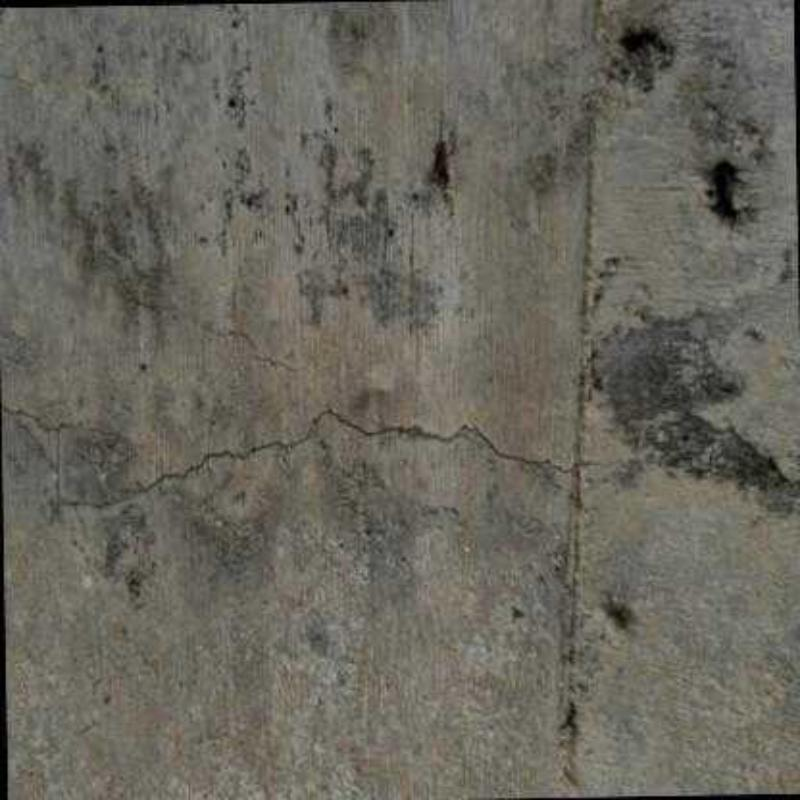crack: (0, 393, 607, 518), (119, 283, 310, 371), (15, 421, 54, 469)
